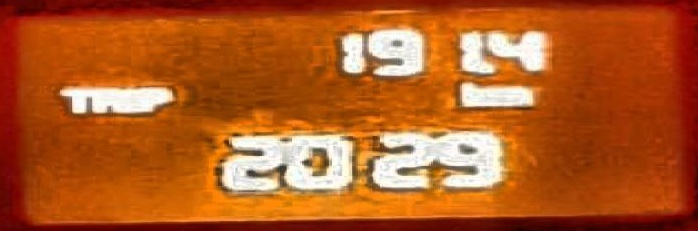-: (480, 61, 498, 75)
0: (282, 132, 355, 192)
1: (337, 31, 364, 75), (455, 29, 482, 72)
2: (215, 132, 284, 192), (368, 130, 435, 190)
4: (484, 27, 548, 72)
9: (435, 128, 504, 189), (366, 27, 424, 76)
X: (488, 83, 535, 107), (88, 85, 124, 115), (53, 86, 88, 116), (455, 78, 488, 109), (142, 85, 173, 115), (124, 83, 139, 116)
